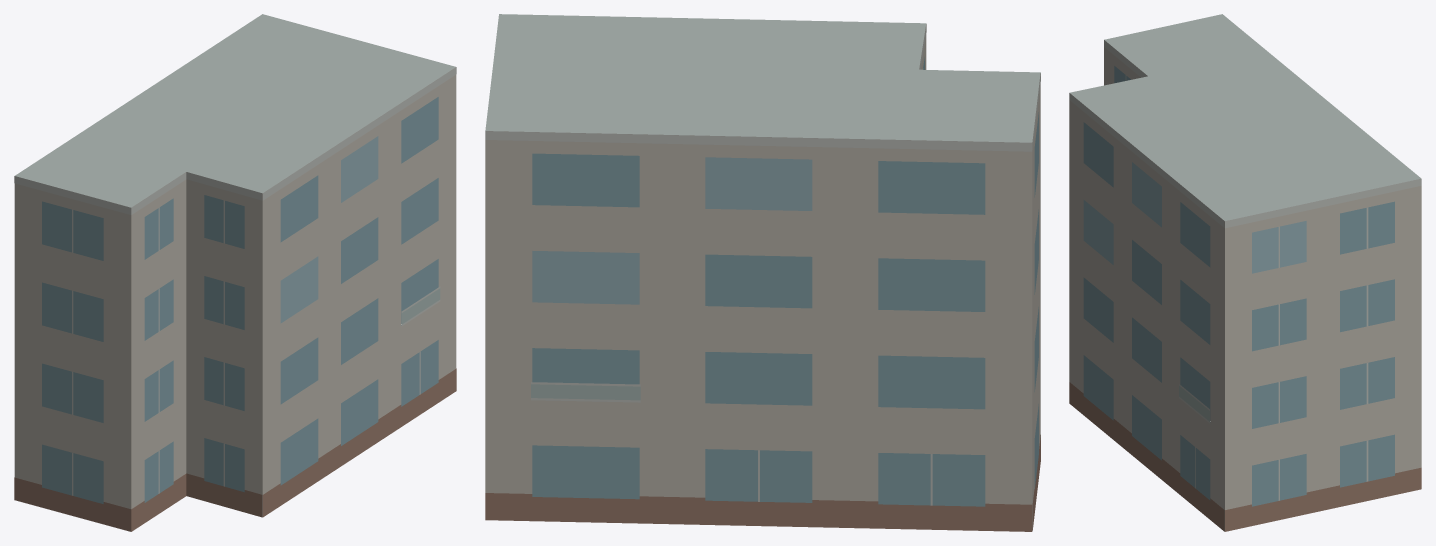
The model's file is survey-upis-32535641.glb.
3 renders of one model, left to right at view 1: azimuth 30°, elevation 25°; view 2: azimuth 150°, elevation 25°; view 3: azimuth 270°, elevation 25°, orthographic. The views are drawn at different scales.
Parts seen in each view (by area): view 1: survey-upis-32535641.tmp; view 2: survey-upis-32535641.tmp; view 3: survey-upis-32535641.tmp.
Part boxes in pixels (bbox=[...]): survey-upis-32535641.tmp: bbox=[14, 14, 456, 531]; survey-upis-32535641.tmp: bbox=[485, 14, 1040, 531]; survey-upis-32535641.tmp: bbox=[1069, 14, 1421, 531].
Size of the model in its own units: 15.17 by 10.6 by 10.9.
